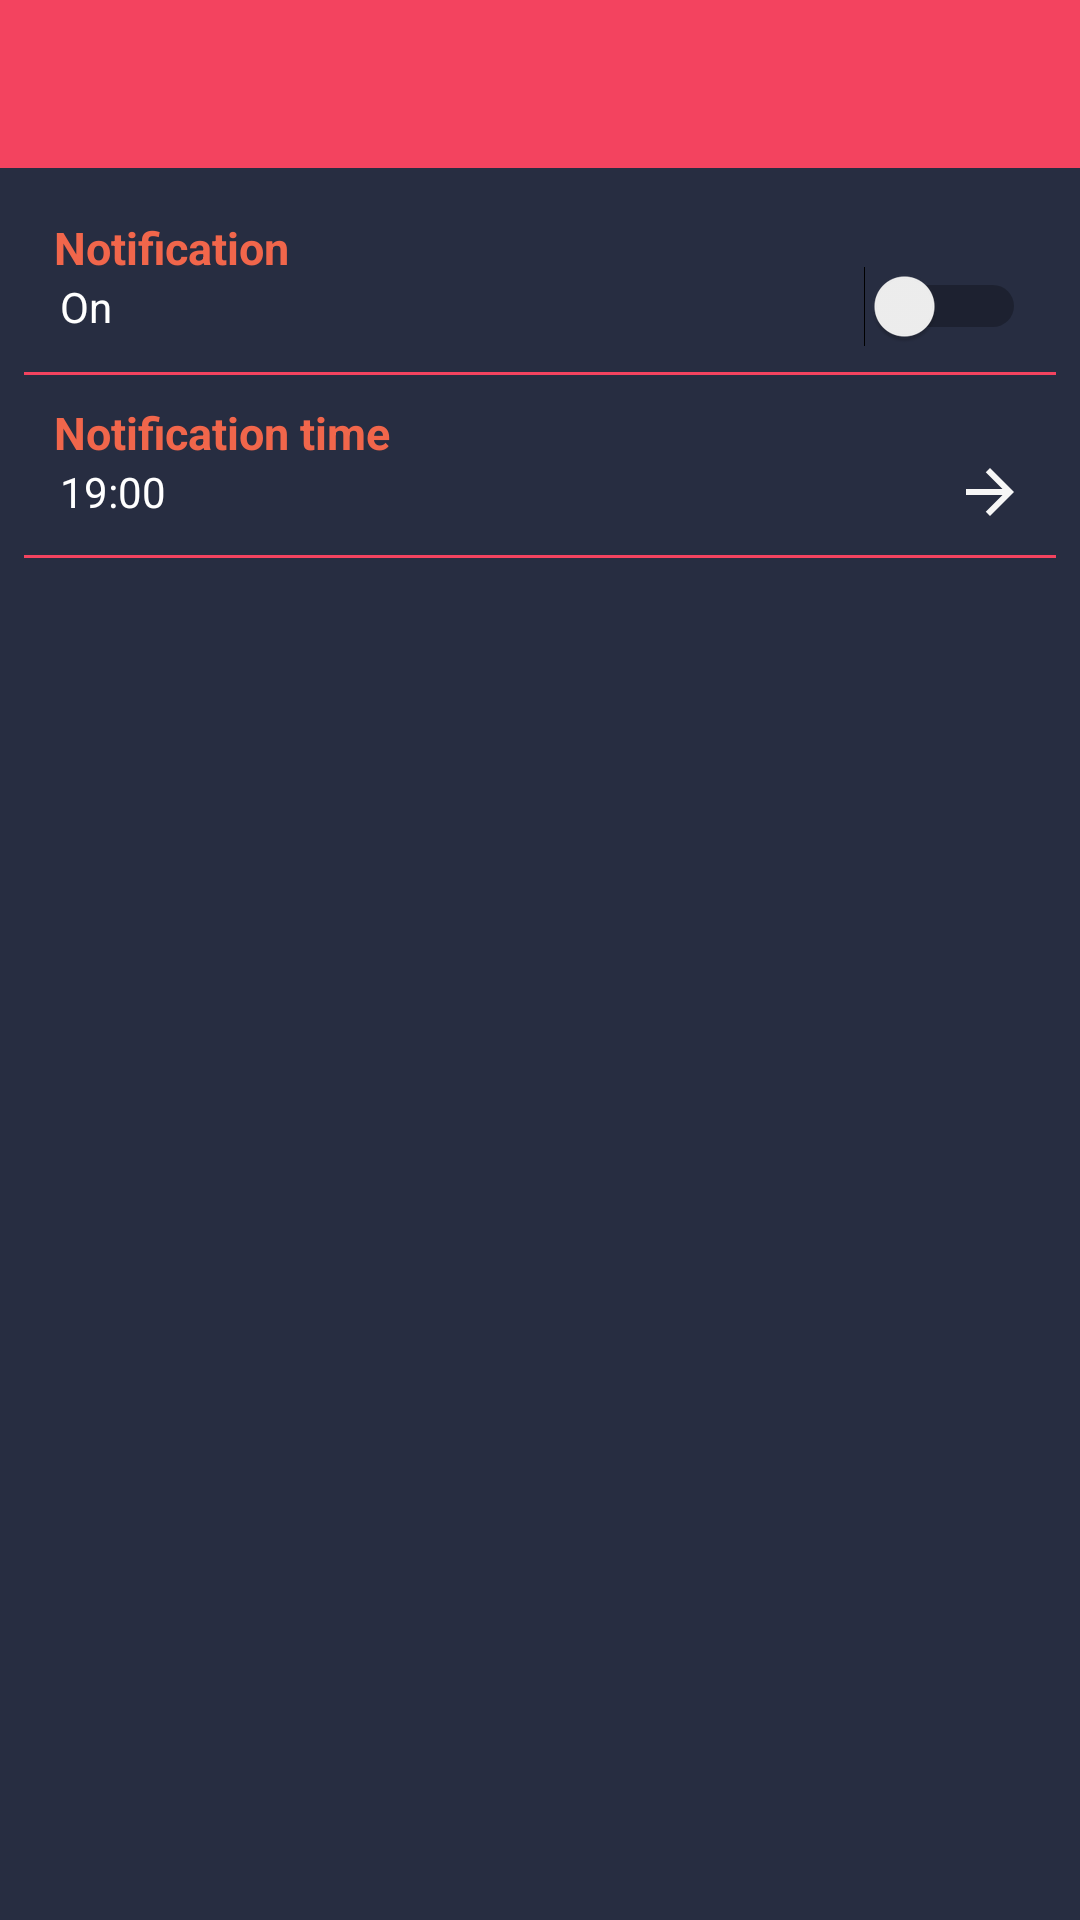

Icons on this 1080 x 1920 Android screen, each with the point to tap as (x=x, y=y):
arrow forward: (x=990, y=492)
